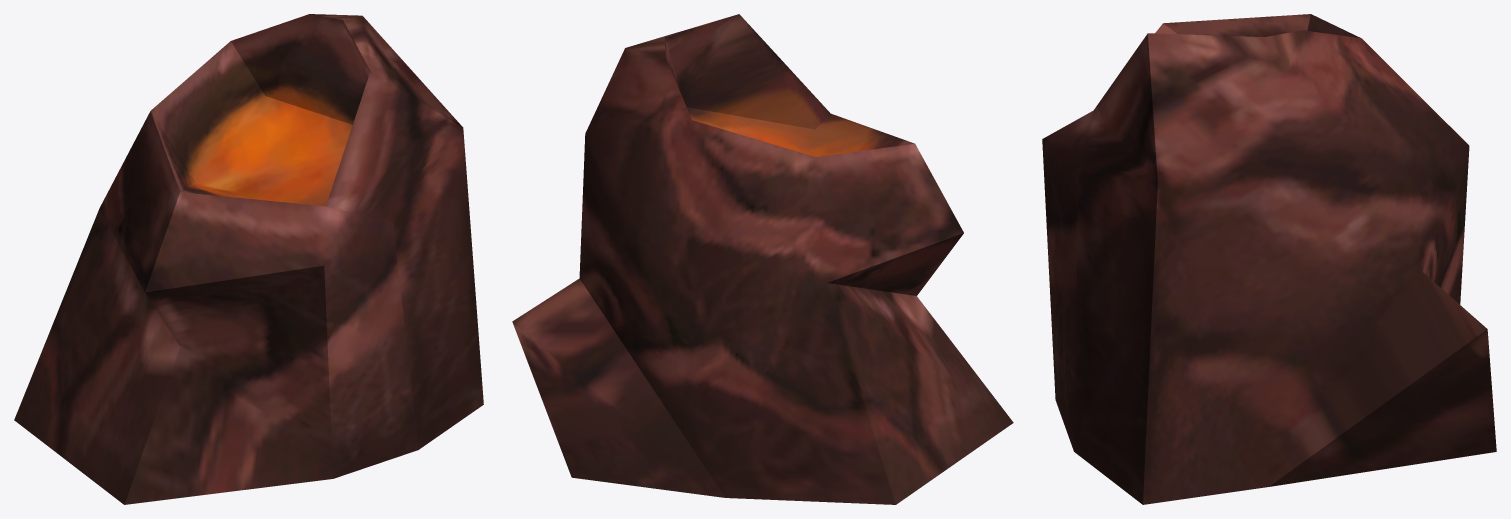
The model's file is stalacmite_lavapool.fbx.
The picture shows the model from 3 angles, left to right: view 1: azimuth 30°, elevation 25°; view 2: azimuth 150°, elevation 25°; view 3: azimuth 270°, elevation 25°; orthographic projection. The views are drawn at different scales.
Parts seen in each view (by area): view 1: 09_-_Default; view 2: 09_-_Default; view 3: 09_-_Default.
Boxes of the visible parts, bbox=[...] form: 09_-_Default: bbox=[14, 14, 483, 504]; 09_-_Default: bbox=[512, 14, 1013, 504]; 09_-_Default: bbox=[1042, 14, 1496, 504].
Bounding box in the file's own units: 1.39 × 1.31 × 1.29.
